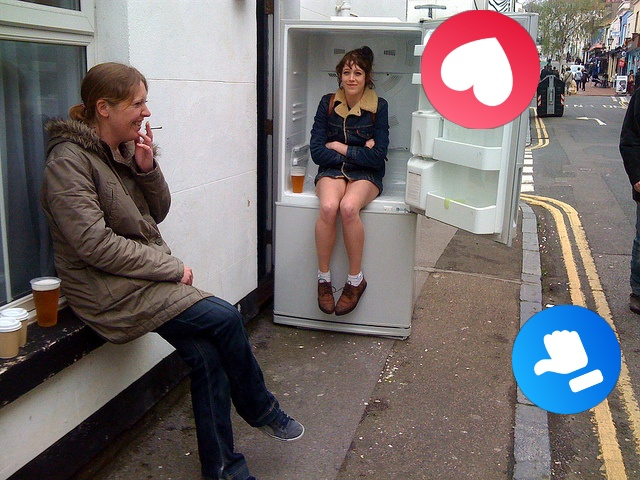like: (512, 305, 621, 414)
love: (421, 10, 540, 129)
